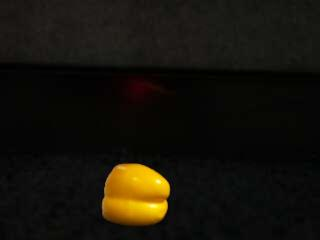Capsicum: (100, 162, 170, 228)
